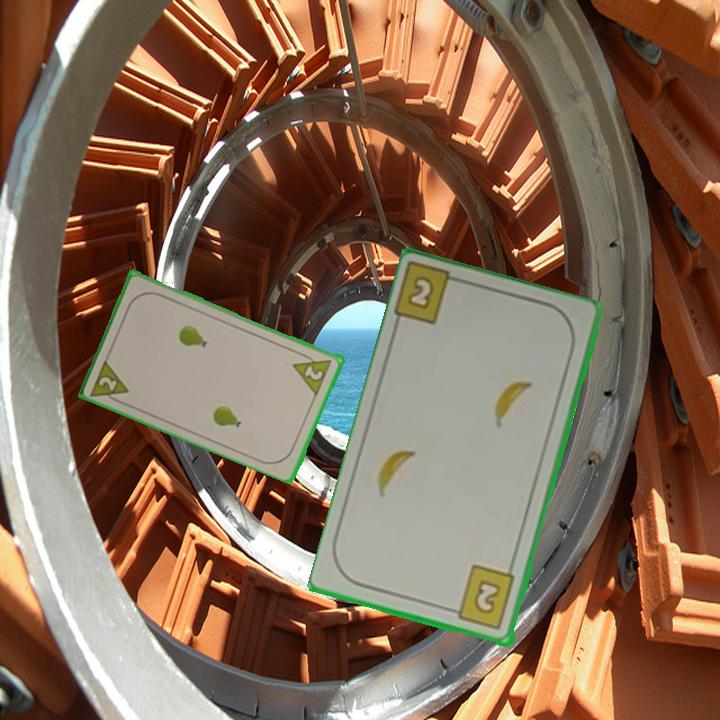2b: (446, 562, 519, 633), (392, 262, 469, 329)
2p: (87, 355, 132, 408), (289, 348, 335, 397)
